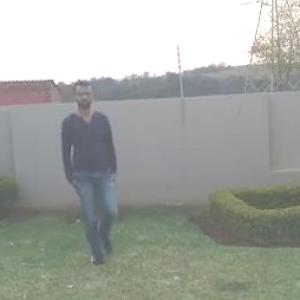follow: (60, 78, 122, 267)
